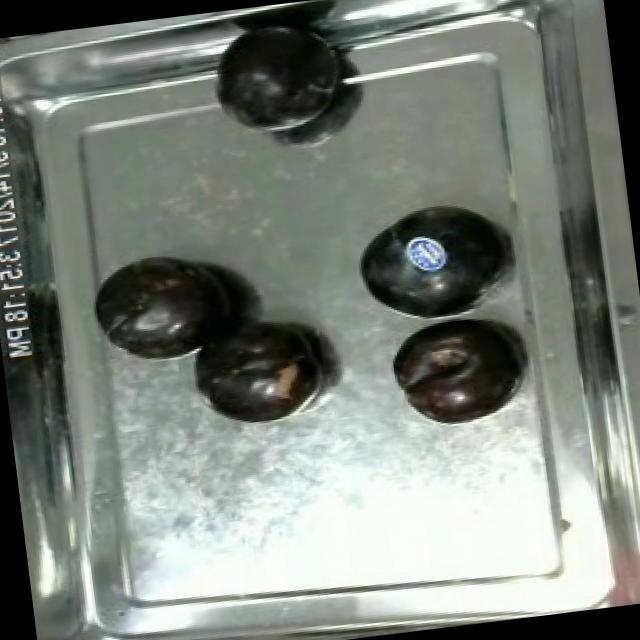Fruit: (342, 188, 512, 330), (82, 242, 247, 372), (204, 11, 354, 145), (183, 310, 329, 430), (384, 308, 522, 432)
